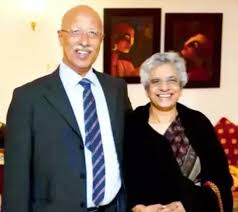Bad: (6, 5, 229, 211)
